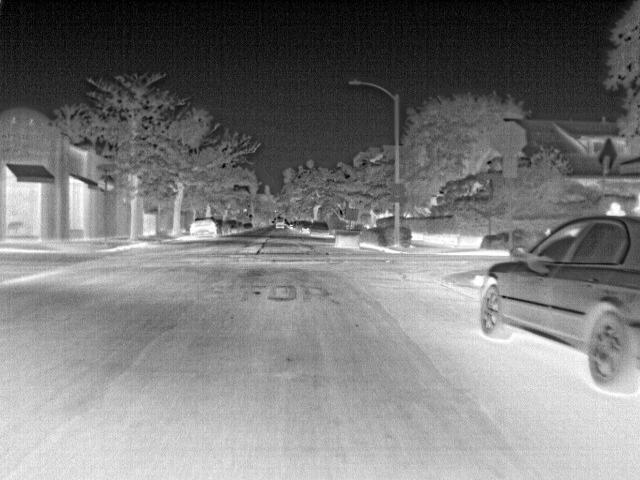car: (477, 214, 635, 398), (186, 219, 219, 239), (306, 220, 333, 238), (224, 220, 238, 234), (301, 222, 315, 236), (273, 218, 286, 230), (242, 222, 254, 234)
person: (602, 198, 630, 218)
